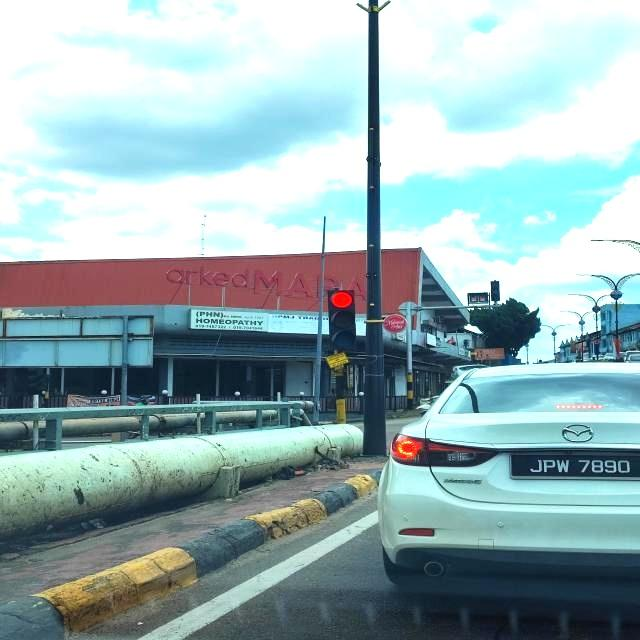Red: (326, 290, 356, 350)
